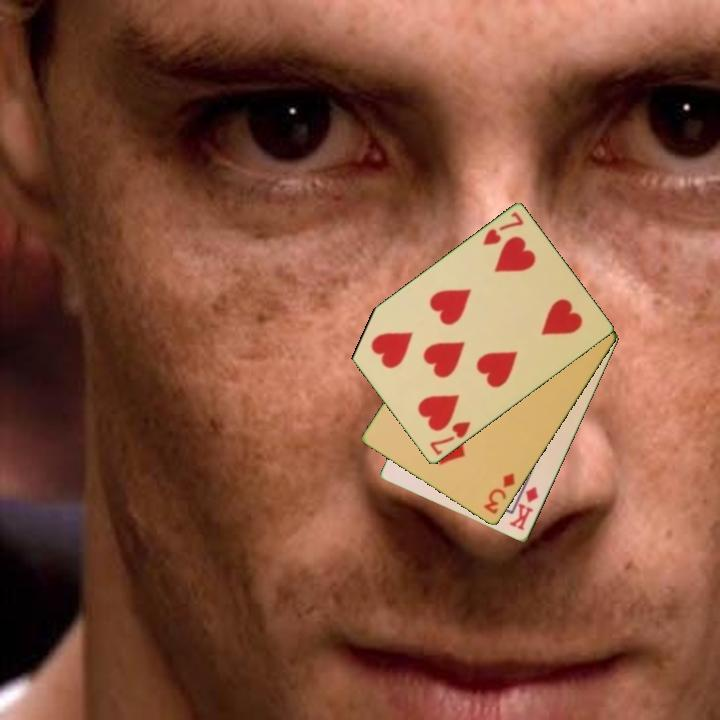3d: (480, 469, 518, 517)
7h: (479, 208, 526, 249), (426, 418, 474, 458)
Kd: (506, 483, 541, 534)
